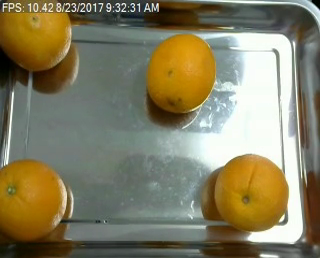Orange: (212, 152, 288, 232), (145, 33, 216, 113), (1, 160, 68, 242), (0, 13, 71, 71)
